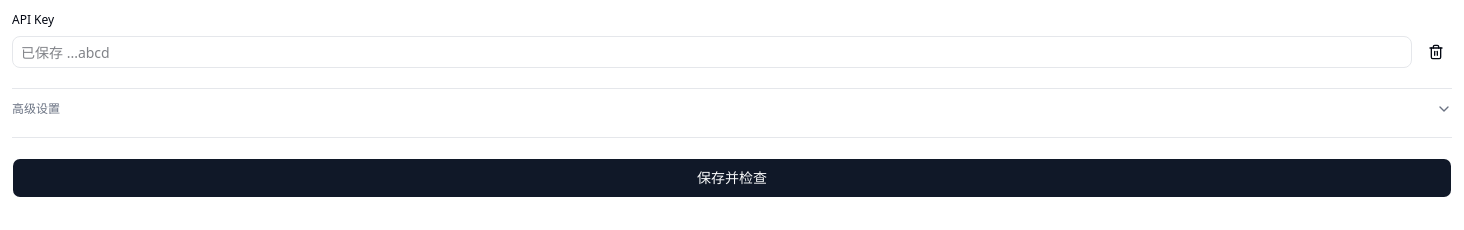
Test: ProviderConfigFields › clears configured secrets and reloads the view
Click the button named "清除 API Key".
click(1436, 52)  # box [1420,36,1452,68]
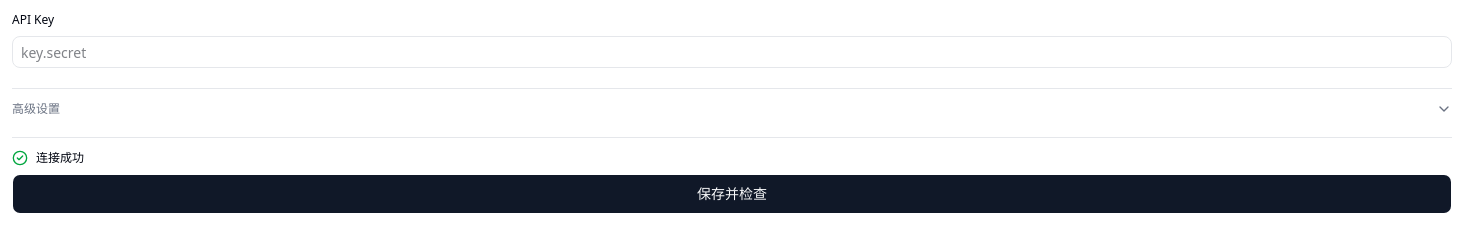
expect the text "连接成功" is shown: met, box [12,149,84,166]
